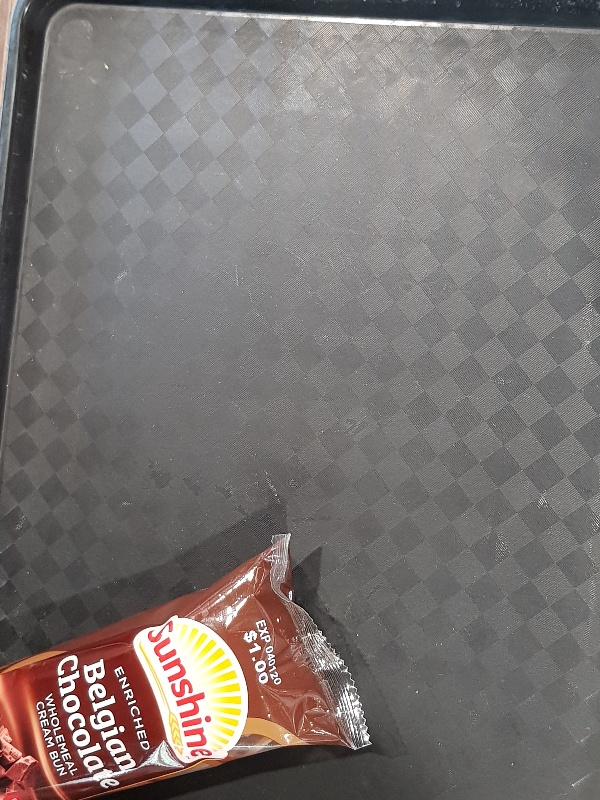Sunshine Belgium Chocolate Wholemeal Cream Bun: (1, 530, 370, 800)
